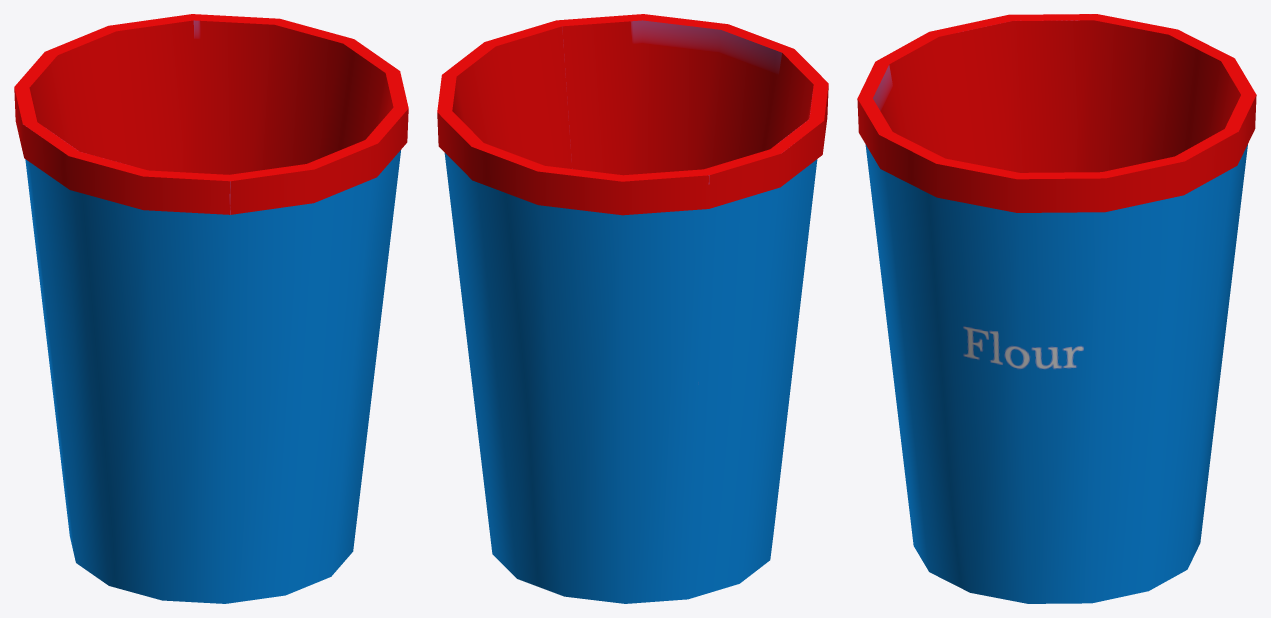
The model's file is Empty bucket.fbx.
3 views of the same model, side by side, from view 1: azimuth 30°, elevation 25°; view 2: azimuth 150°, elevation 25°; view 3: azimuth 270°, elevation 25° (orthographic).
Visible parts, largest first — view 1: sos_game_play_models:flour_bucket__; view 2: sos_game_play_models:flour_bucket__; view 3: sos_game_play_models:flour_bucket__.
Boxes of the visible parts, box(x1,y1,x2,y2) form: sos_game_play_models:flour_bucket__: box(14, 14, 408, 603); sos_game_play_models:flour_bucket__: box(437, 14, 828, 603); sos_game_play_models:flour_bucket__: box(857, 14, 1256, 603).
Size of the model in its own units: 20.73 by 26.2 by 21.16.
Materials: 1 (1 with a texture image).
